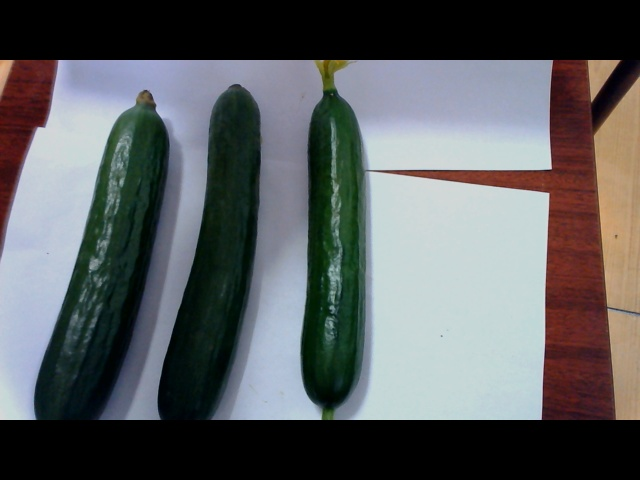cucumber: (37, 95, 162, 420), (167, 79, 262, 430), (290, 59, 369, 419)
